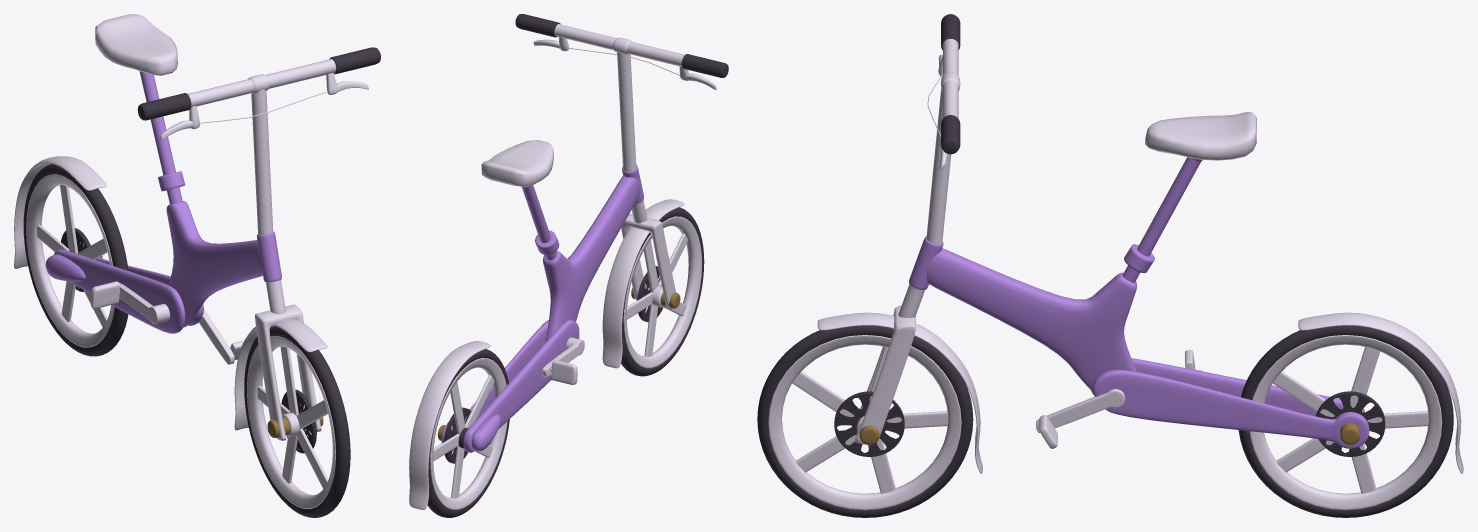
File: electricbike.fbx
3 views of the same model, side by side, from view 1: azimuth 30°, elevation 25°; view 2: azimuth 150°, elevation 25°; view 3: azimuth 270°, elevation 25° (orthographic). The views are drawn at different scales.
Parts seen in each view (by area): view 1: car_fixed24:car_fixed23:car_fixed22:electric_bike1; view 2: car_fixed24:car_fixed23:car_fixed22:electric_bike1; view 3: car_fixed24:car_fixed23:car_fixed22:electric_bike1.
Part boxes in pixels (<box>): car_fixed24:car_fixed23:car_fixed22:electric_bike1: <box>14,14,380,517</box>; car_fixed24:car_fixed23:car_fixed22:electric_bike1: <box>409,14,728,517</box>; car_fixed24:car_fixed23:car_fixed22:electric_bike1: <box>757,14,1463,517</box>.
Size of the model in its own units: 2.83 by 4.62 by 6.69.
